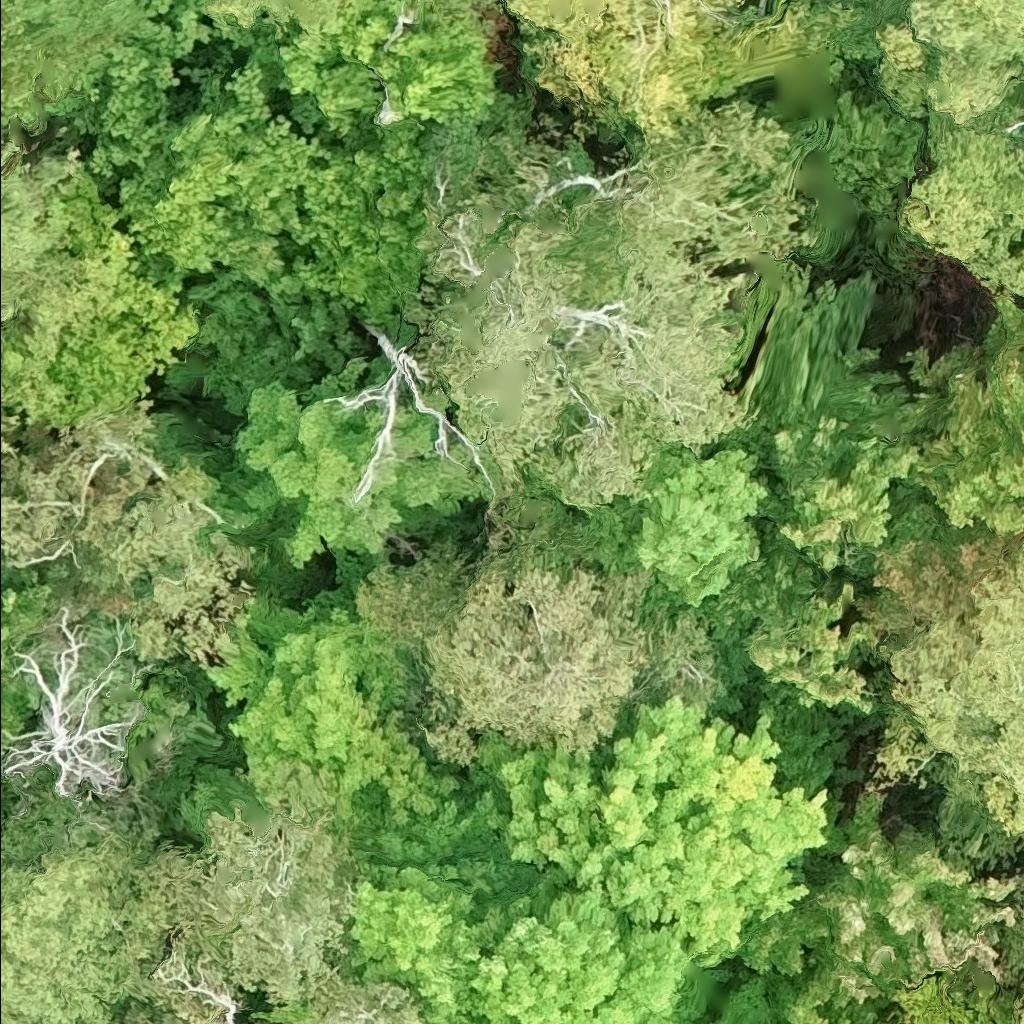crown: (460, 698, 825, 969), (349, 783, 687, 1023), (0, 403, 256, 679), (210, 598, 471, 842), (146, 757, 365, 1004), (0, 833, 240, 1023), (0, 609, 135, 799), (0, 584, 65, 757), (310, 971, 431, 1023)
